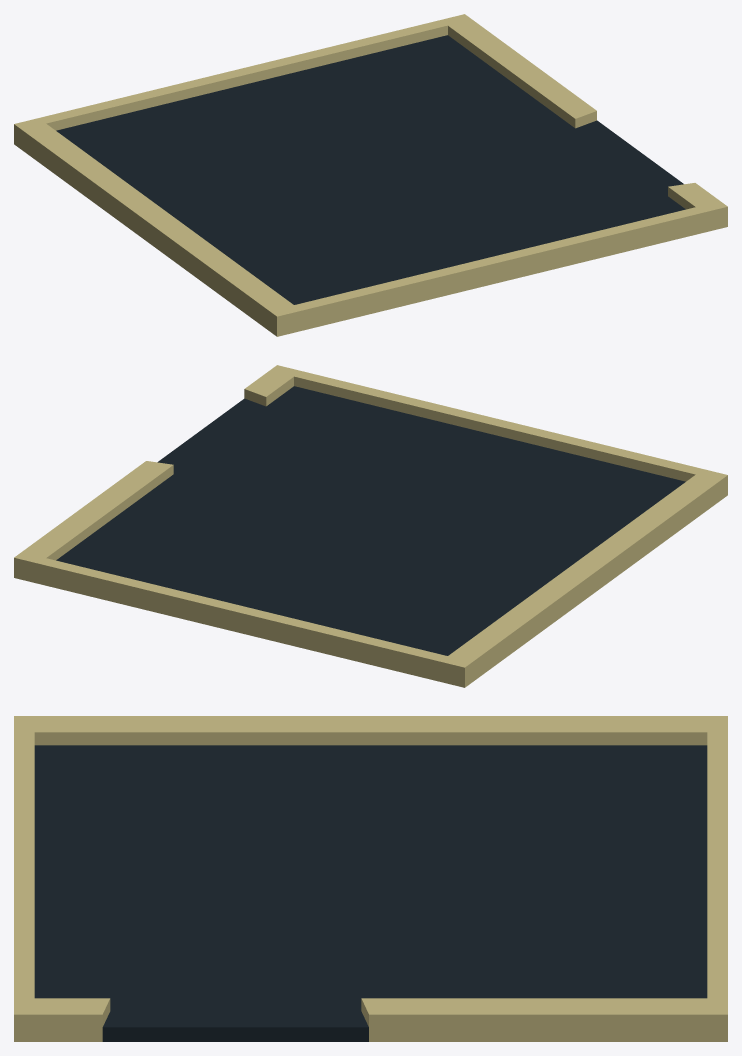
Rendered from parking.fbx.
3 renders of one model, top to bottom at view 1: azimuth 30°, elevation 25°; view 2: azimuth 150°, elevation 25°; view 3: azimuth 270°, elevation 25°, orthographic. The views are drawn at different scales.
Visible parts, largest first — view 1: Cube.002; view 2: Cube.002; view 3: Cube.002.
Boxes of the visible parts, left/top/right/bottom form: Cube.002: left=14, top=14, right=727, bottom=336; Cube.002: left=14, top=365, right=727, bottom=687; Cube.002: left=14, top=716, right=727, bottom=1041.
Size of the model in its own units: 1489 by 63.91 by 1505.
